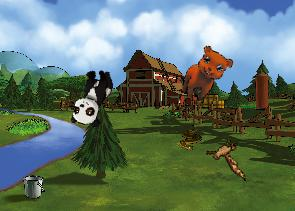bear: (177, 42, 236, 110)
eagle: (200, 133, 255, 181)
panda: (68, 64, 116, 130)
